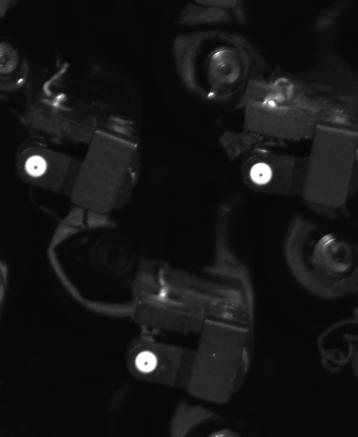fiber: (18, 147, 54, 183), (244, 157, 281, 192), (130, 346, 166, 380)
